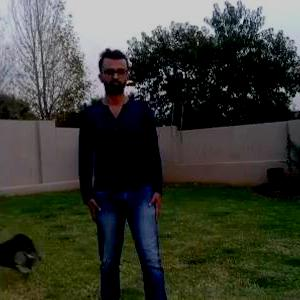follow: (78, 47, 166, 299)
